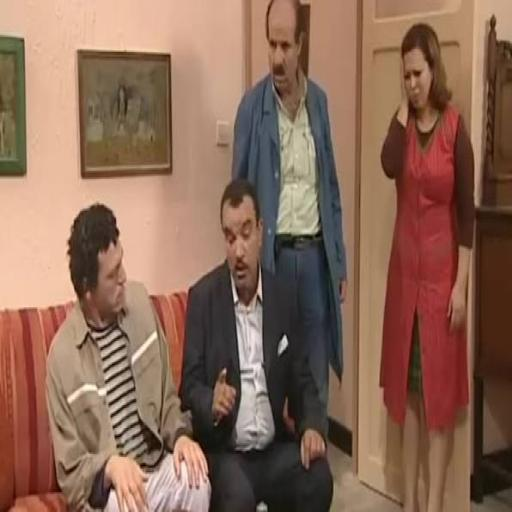AZZA: (398, 26, 450, 124)
beji_matrix: (265, 0, 302, 95)
slimane: (220, 179, 262, 300)
